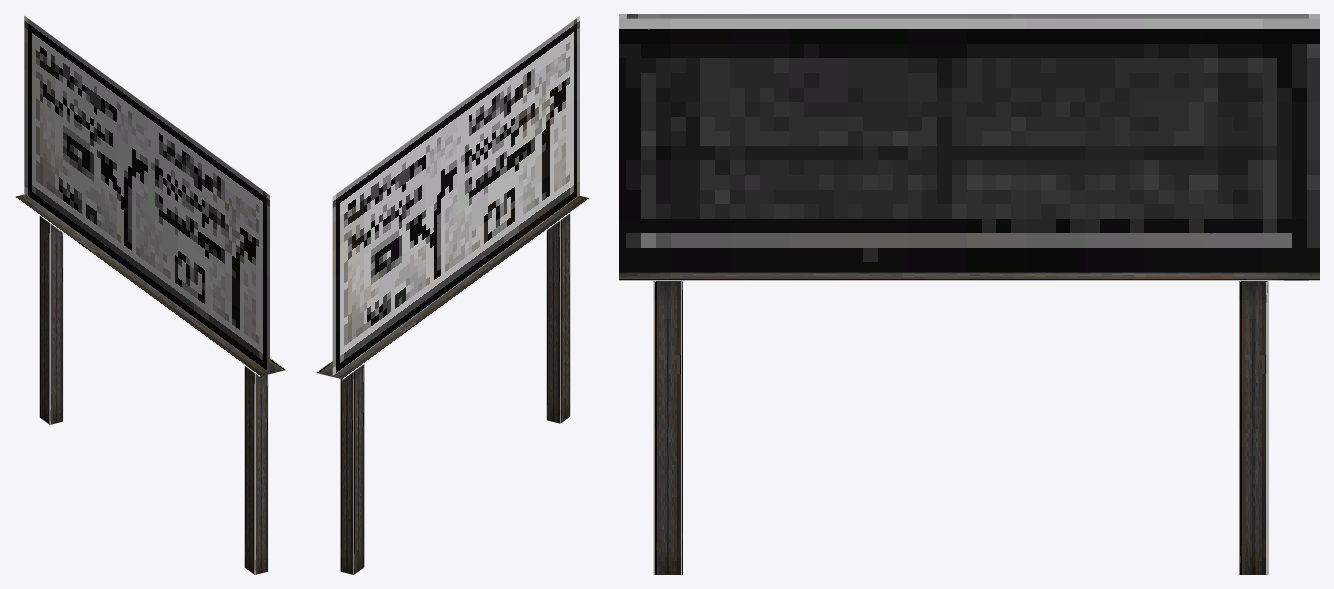
The model's file is Environment - Prop - Highway Sign 02 - PMHwySgn02.glb.
3 views of the same model, side by side, from view 1: azimuth 30°, elevation 25°; view 2: azimuth 150°, elevation 25°; view 3: azimuth 270°, elevation 25° (orthographic). The views are drawn at different scales.
Visible parts, largest first — view 1: PMHWYSGN02; view 2: PMHWYSGN02; view 3: PMHWYSGN02.
Boxes of the visible parts, bbox=[...] form: PMHWYSGN02: bbox=[14, 16, 286, 574]; PMHWYSGN02: bbox=[315, 16, 589, 574]; PMHWYSGN02: bbox=[619, 14, 1319, 574].
Bounding box in the file's own units: 1.59 × 21.44 × 24.59.
Materials: 1 (1 with a texture image).
